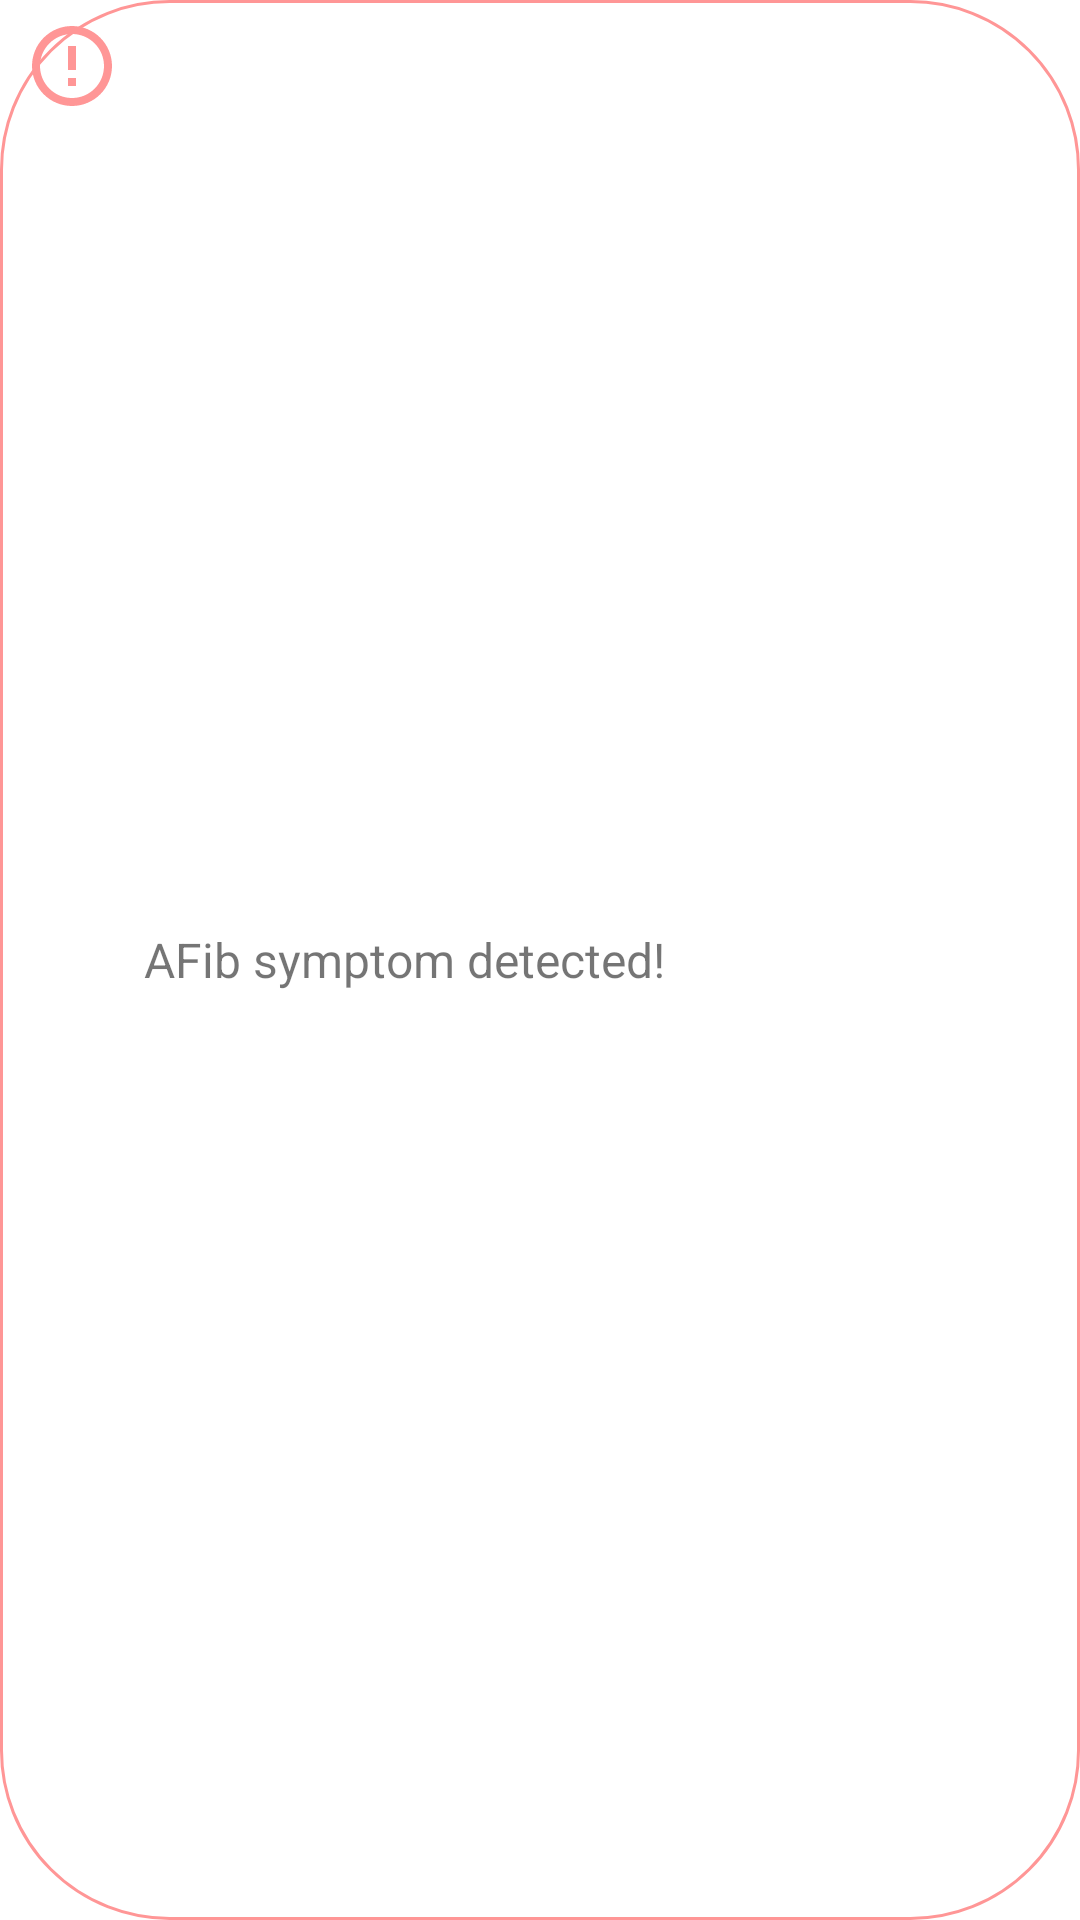

Screen size 1080 × 1920. Icon name, then its box in pixels as detection(x1, y1, x2, y2):
warning: detection(24, 18, 112, 106)
